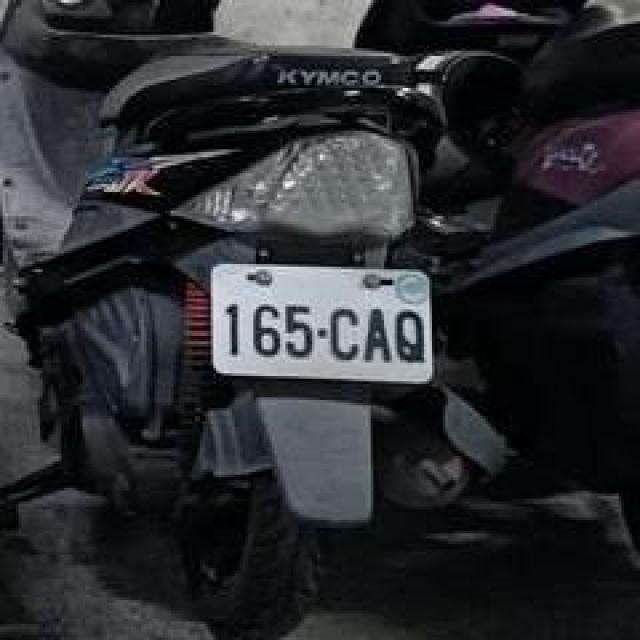W: (205, 253, 446, 387)
